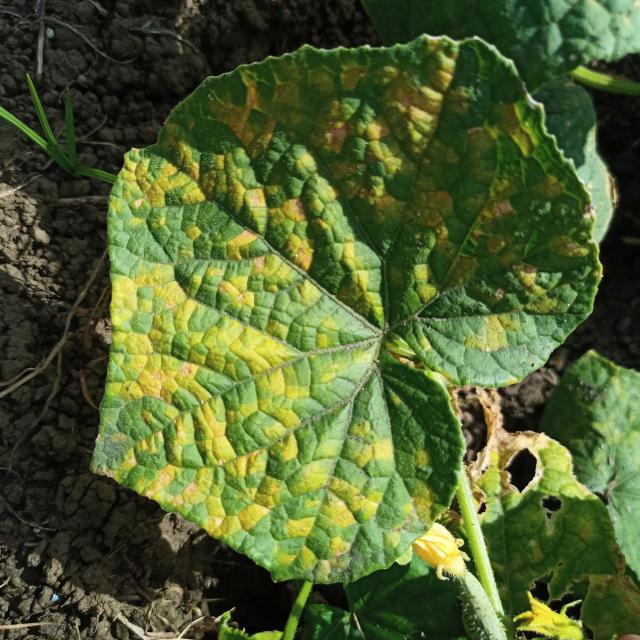disease_cucumber: (110, 49, 579, 564)
